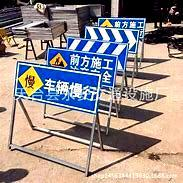sign: (14, 71, 99, 111), (48, 52, 115, 69), (99, 19, 145, 31)
